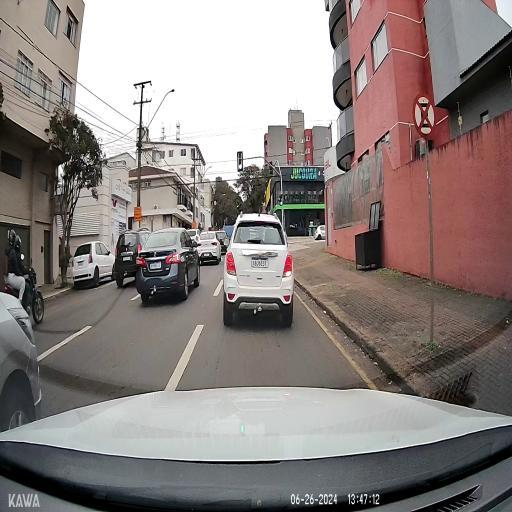R-6c: (412, 92, 436, 140)
